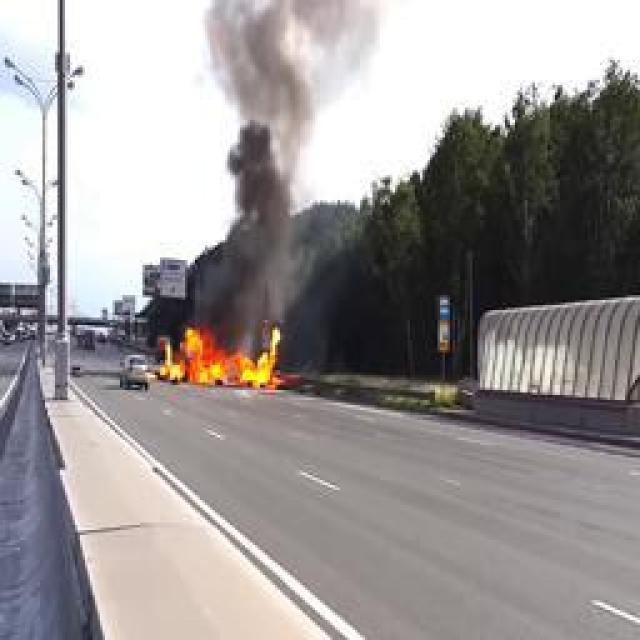Fire: (160, 324, 282, 388)
